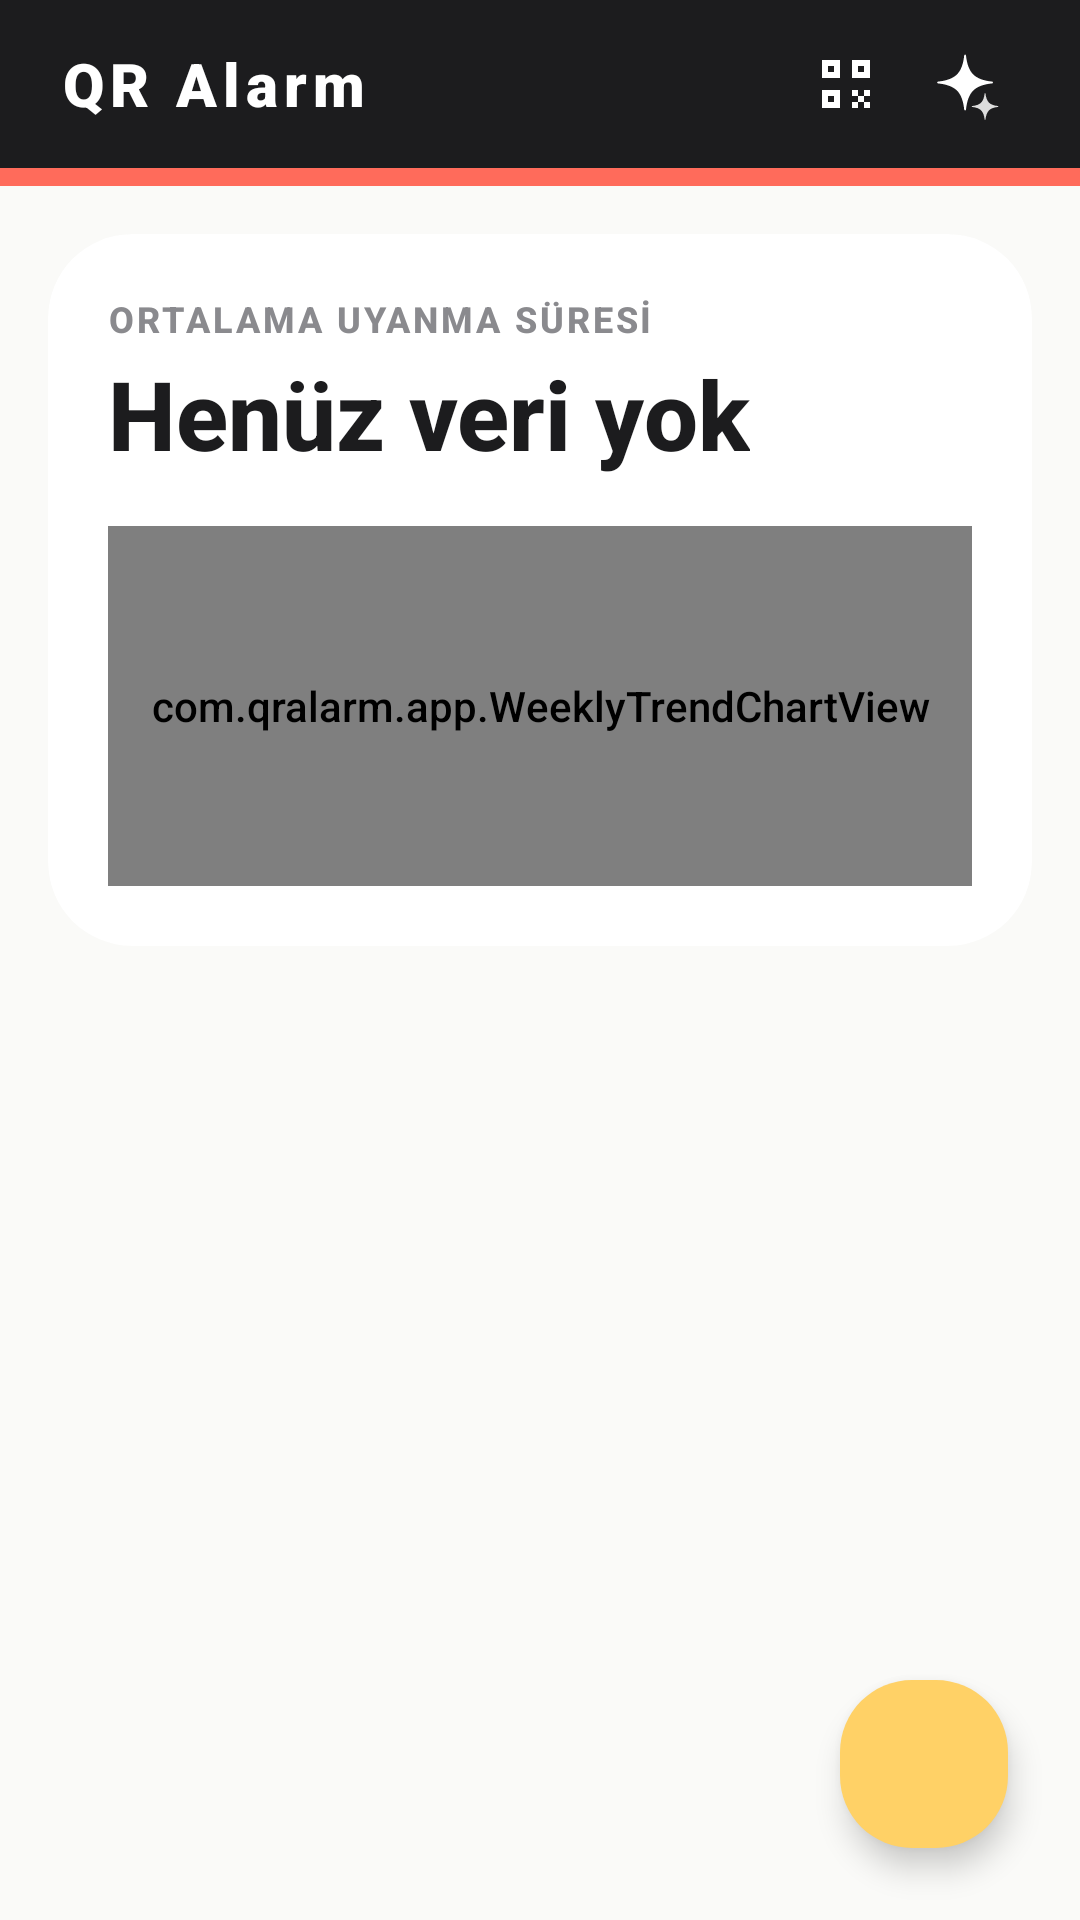

Named icons in this screenshot (1080px×1920px) and their bounding boxes, detection(x1, y1, x2, y2):
Saved QRs: detection(822, 60, 870, 108)
